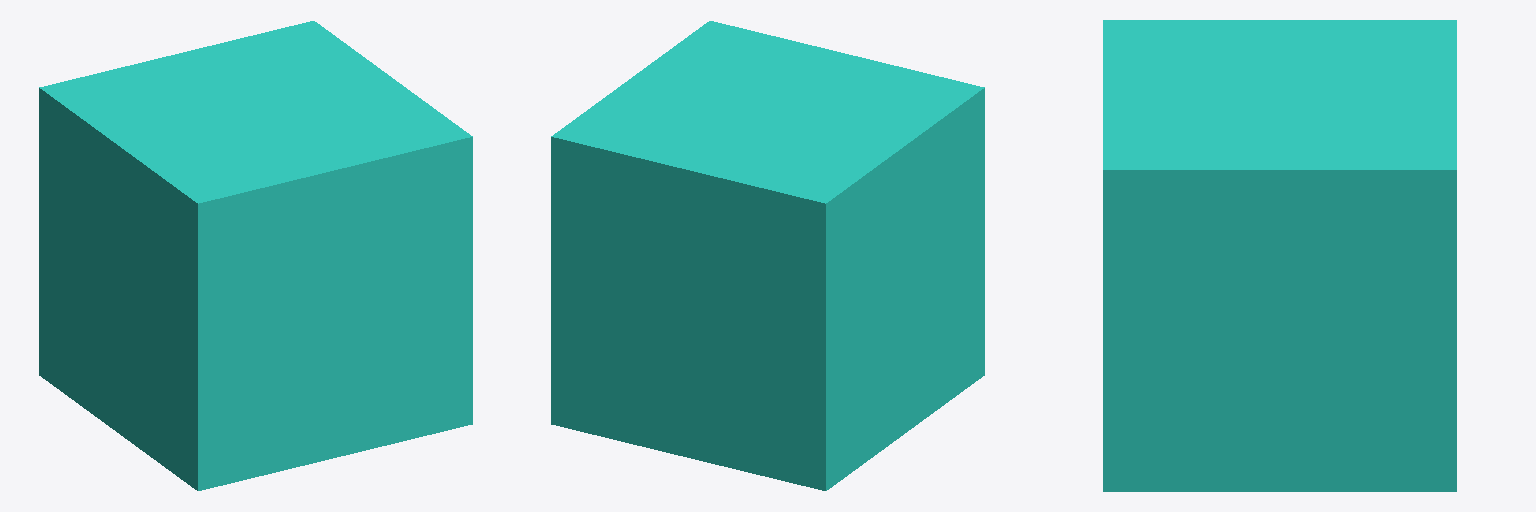
The robot description file, URDF, robot "simple_box":
<robot name="simple_box" >
    <link name="my_box" >
        <inertial>
            <origin xyz="0.0 0.0 0.0" rpy="0.0 0.0 0.0"/>
            <mass value="0.1"/>
            <inertia ixx="0.0000416" ixy="0.0" ixz="0.0" iyy="0.0000416" iyz="0.0" izz="0.0000416"/>
        </inertial>
        <visual>
            <origin xyz="0 0 0" />
            <geometry>
                <box size="0.05 0.05 0.05"/>
            </geometry>
            <material name="green_turquoise">
                <color rgba="0.25 0.88 0.82 1.0"/> <!-- Adjust RGBA values to get the desired color -->
            </material>
        </visual>
        <collision>
            <origin xyz="0 0 0" />
            <geometry>
                <box size="0.05 0.05 0.05"/>
            </geometry>
        </collision>
    </link>

    <gazebo reference="my_box" >
        <material>Gazebo/Turquoise</material> 
    </gazebo>
</robot>

--- What the picture shows (computed from the rendered views, not written in the file) ---
3 views of the same robot in one strip: view 1: azimuth 30°, elevation 25°; view 2: azimuth 150°, elevation 25°; view 3: azimuth 270°, elevation 25° (orthographic).
Model simple_box with 1 links and 0 joints (none), rooted at my_box, posed every joint at zero.
Links seen in each view (by area): view 1: my_box; view 2: my_box; view 3: my_box.
Boxes of the visible links, x1,y1,x2,y2 form: my_box: (39,21,472,490); my_box: (551,21,984,490); my_box: (1103,20,1456,491).
Bounding box of the posed robot: 0.05 × 0.05 × 0.05 m (x, y, z).
Geometry: primitives only (box / cylinder / sphere), no mesh files.